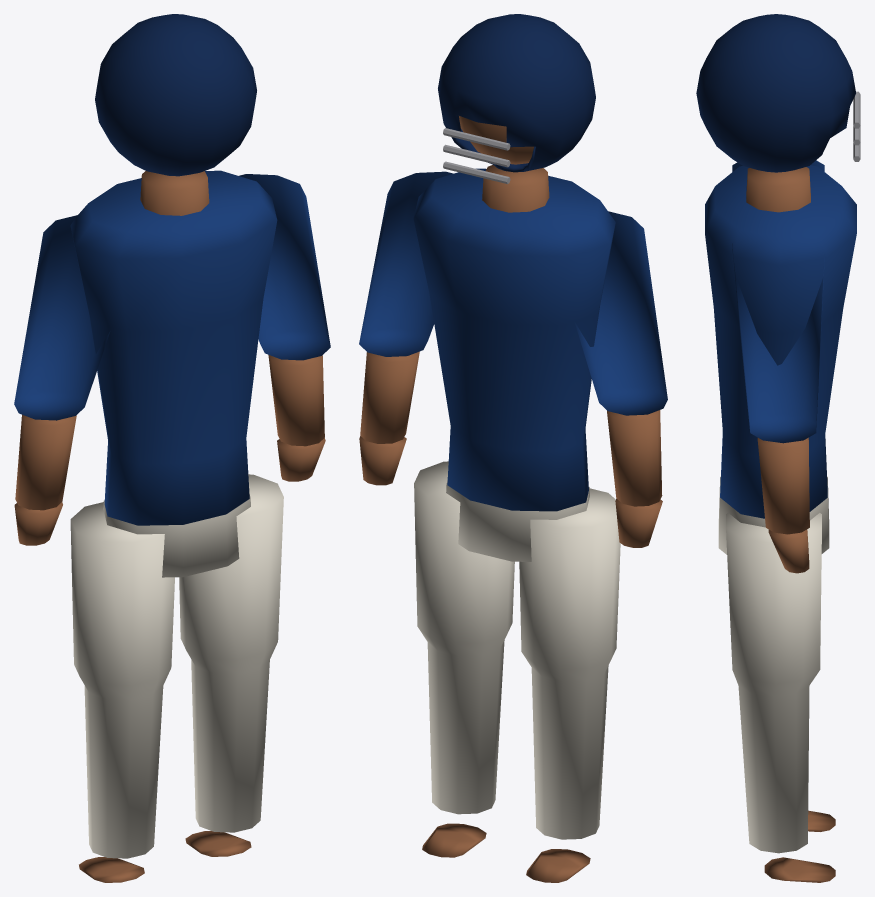
File: SundayNightPlayer.obj
3 renders of one model, left to right at view 1: azimuth 30°, elevation 25°; view 2: azimuth 150°, elevation 25°; view 3: azimuth 270°, elevation 25°, orthographic. The views are drawn at different scales.
Visible parts, largest first — view 1: SundayNightPlayer; view 2: SundayNightPlayer; view 3: SundayNightPlayer.
Part boxes in pixels (x1,y1,x2,y2): SundayNightPlayer: (14,14,330,882); SundayNightPlayer: (359,14,667,882); SundayNightPlayer: (696,14,860,882).
Bounding box in the file's own units: 0.75 × 1.97 × 0.3551.
